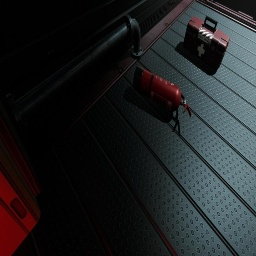FireExtinguisher ]: (133, 65, 192, 118)
FirstAidBox ,: (183, 15, 230, 70)
